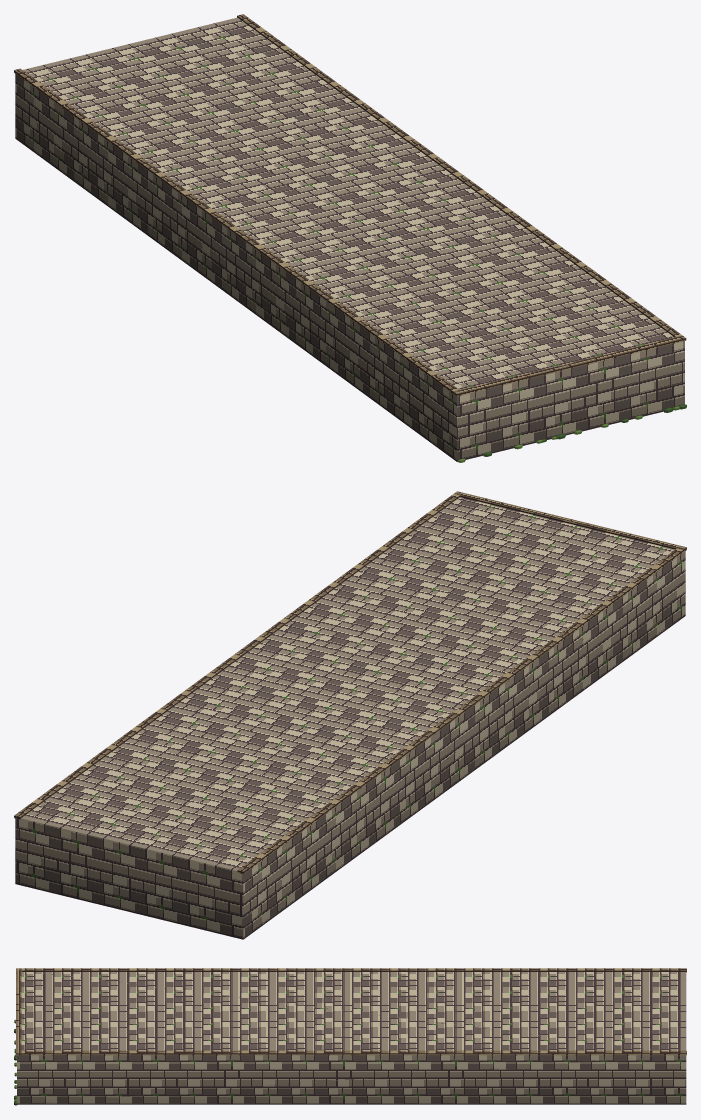
File: scene_wall_e.glb
3 views of the same model, one above another, from view 1: azimuth 30°, elevation 25°; view 2: azimuth 150°, elevation 25°; view 3: azimuth 270°, elevation 25° (orthographic). The views are drawn at different scales.
Visible parts, largest first — view 1: scene_wall_e; view 2: scene_wall_e; view 3: scene_wall_e.
Boxes of the visible parts, <box> form: scene_wall_e: <box>14,14,686,462</box>; scene_wall_e: <box>14,491,686,939</box>; scene_wall_e: <box>14,968,686,1105</box>.
Bounding box in the file's own units: 12.94 × 3.77 × 43.24.
Materials: 2 (1 with a texture image).
